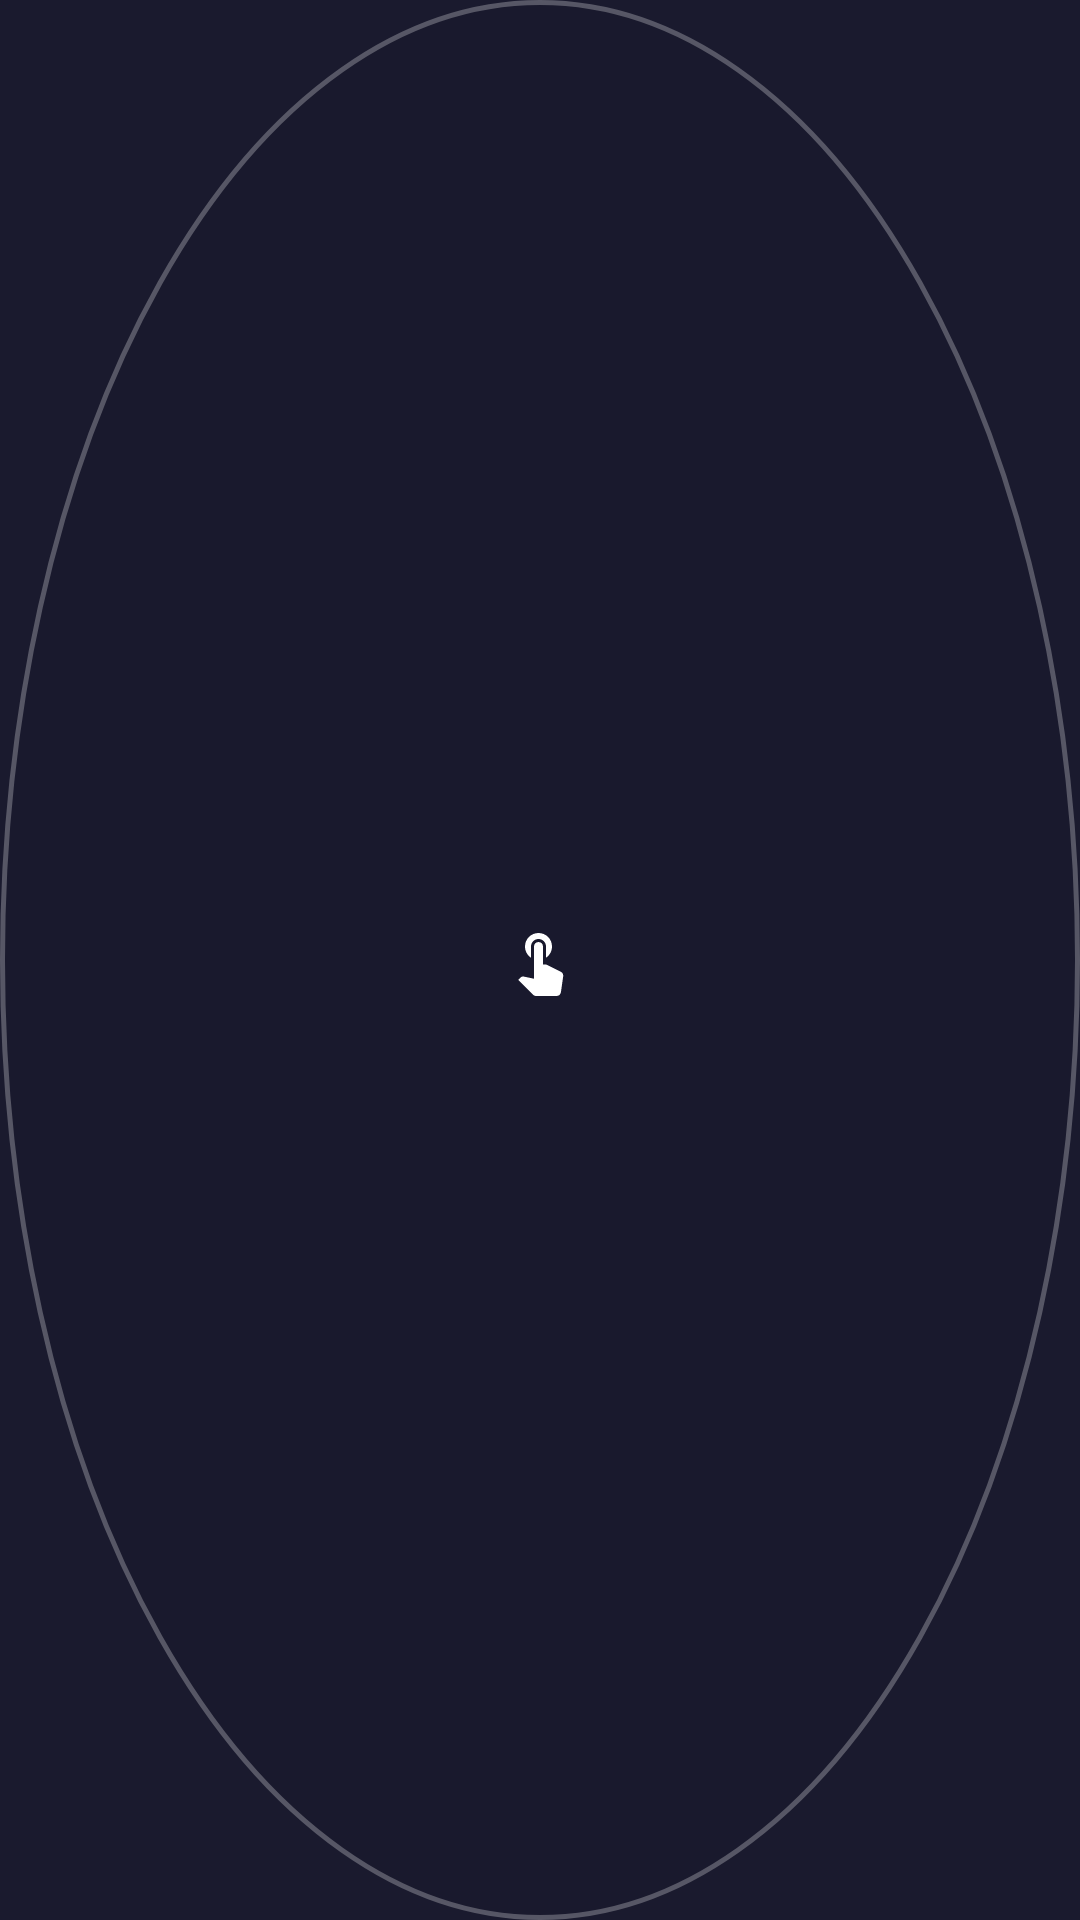

Point at icon controls on the screen. Image size 1080x1920, points as [x,y].
touch: [541,964]
